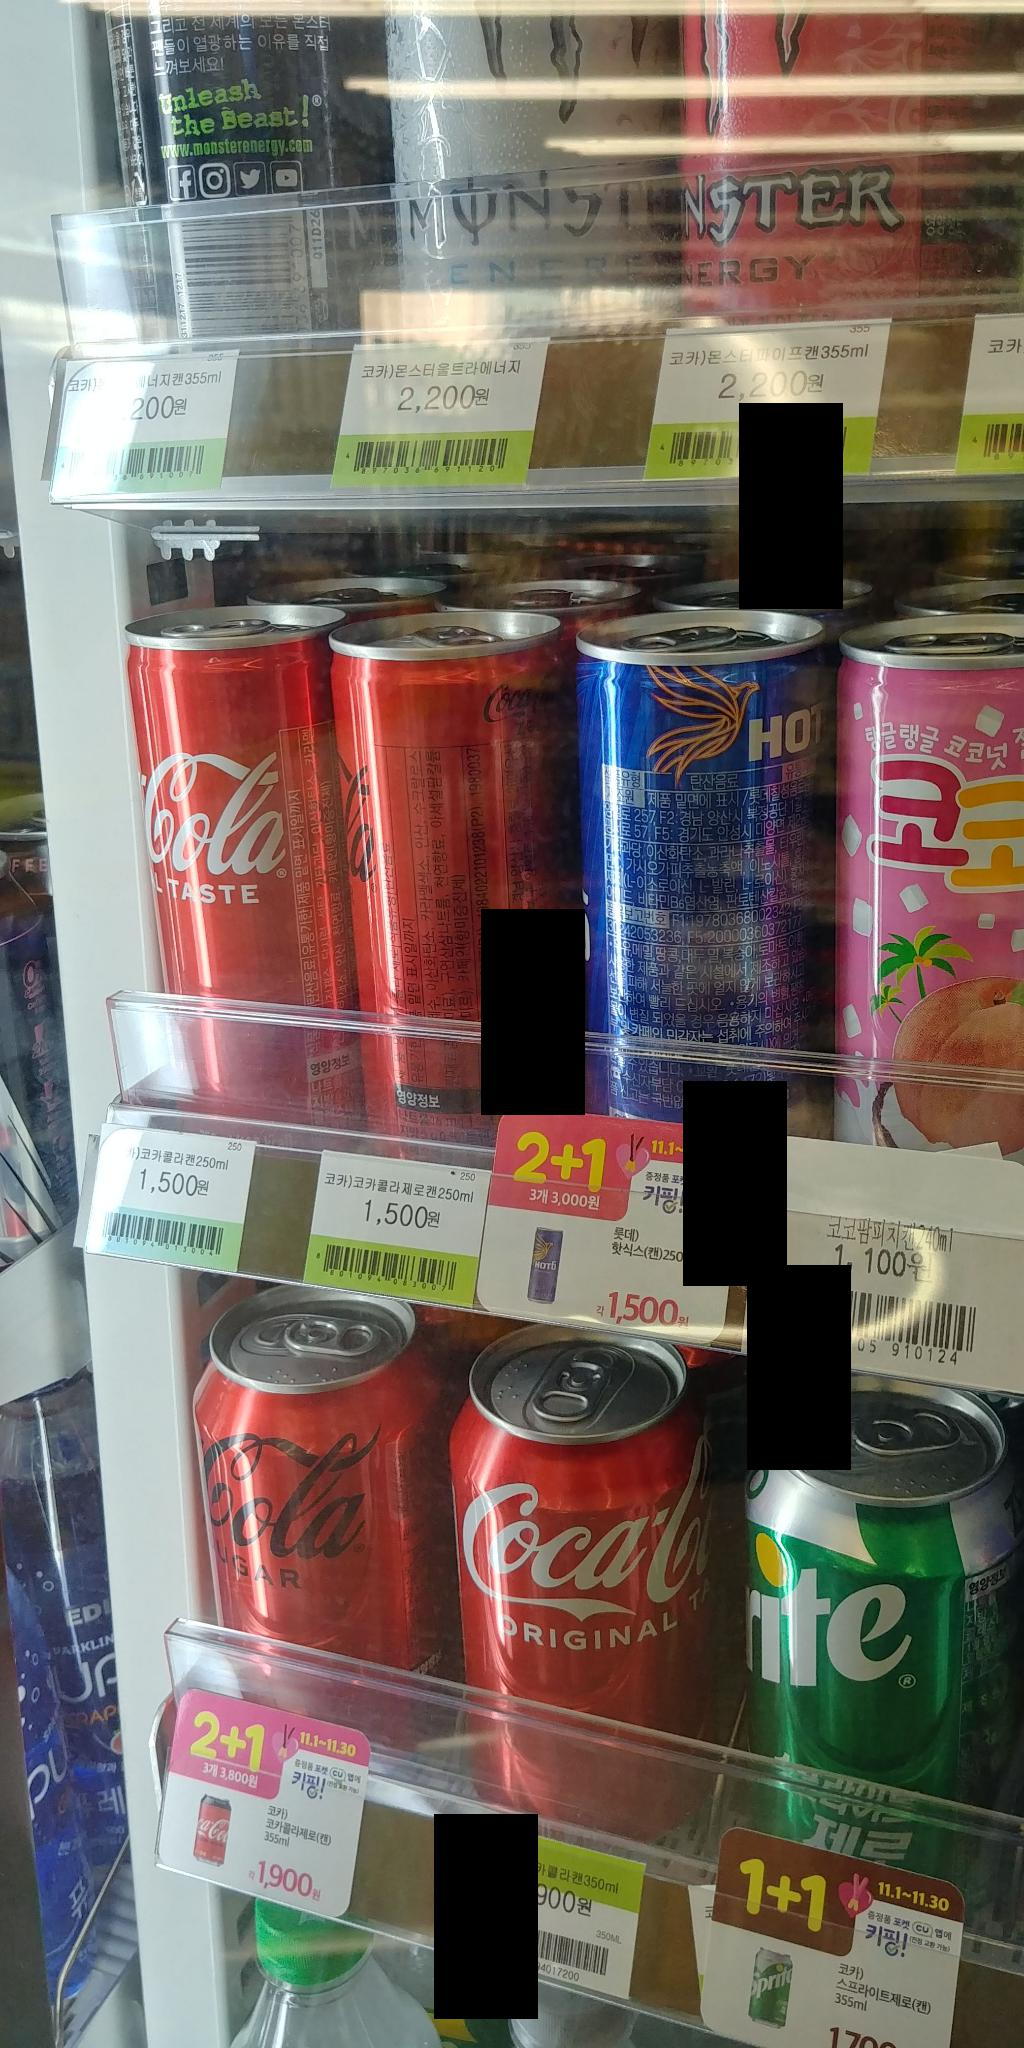cocacola: (449, 1317, 729, 1846)
cocacola_zero: (317, 593, 613, 1189)
hotsix_org: (569, 602, 857, 1164)
